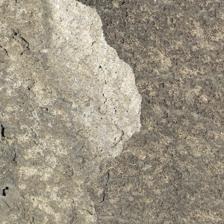Crack: (39, 3, 109, 128)
